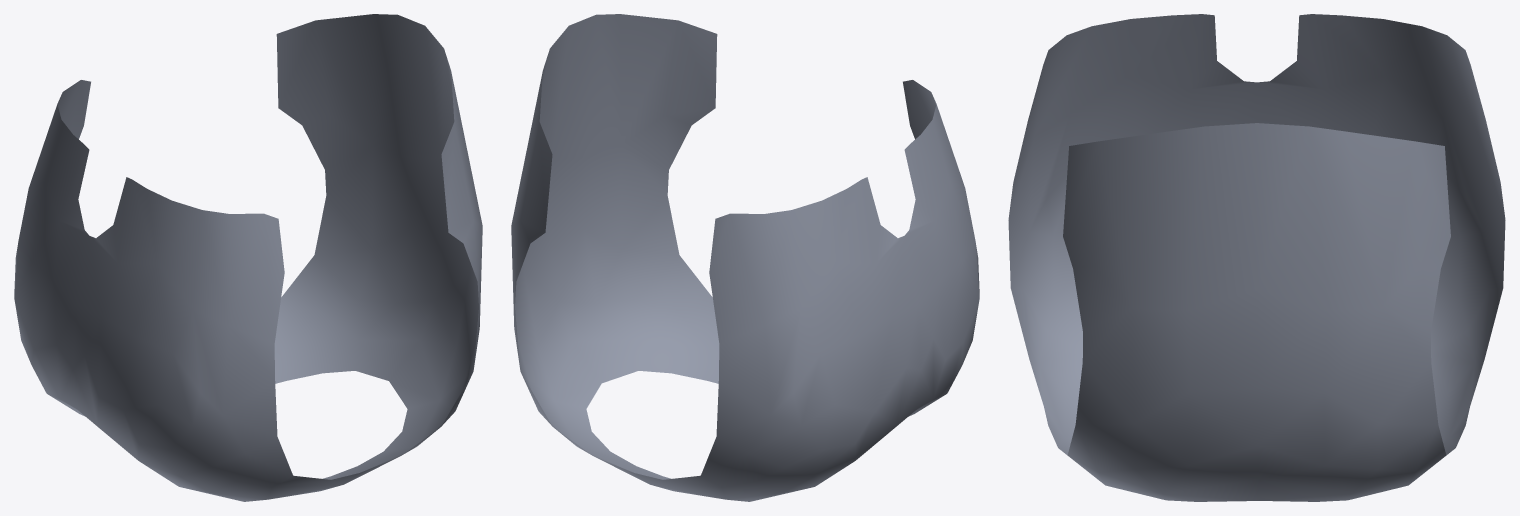
File: chest.dae
3 renders of one model, left to right at view 1: azimuth 30°, elevation 25°; view 2: azimuth 150°, elevation 25°; view 3: azimuth 270°, elevation 25°, orthographic. The views are drawn at different scales.
Parts seen in each view (by area): view 1: torso_mesh; view 2: torso_mesh; view 3: torso_mesh.
Part boxes in pixels (x1,y1,x2,y2): torso_mesh: (14,14,482,501); torso_mesh: (511,14,979,501); torso_mesh: (1008,14,1505,501).
Bounding box in the file's own units: 0.1868 × 0.1898 × 0.1827.
